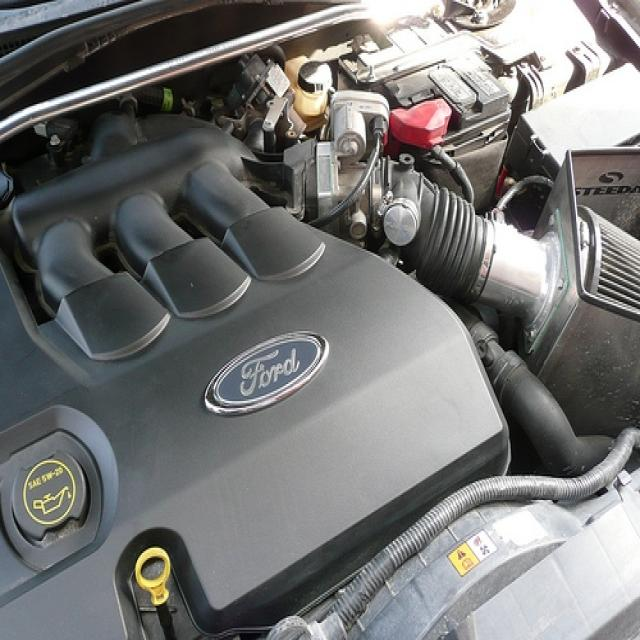ford: (199, 327, 335, 426)
